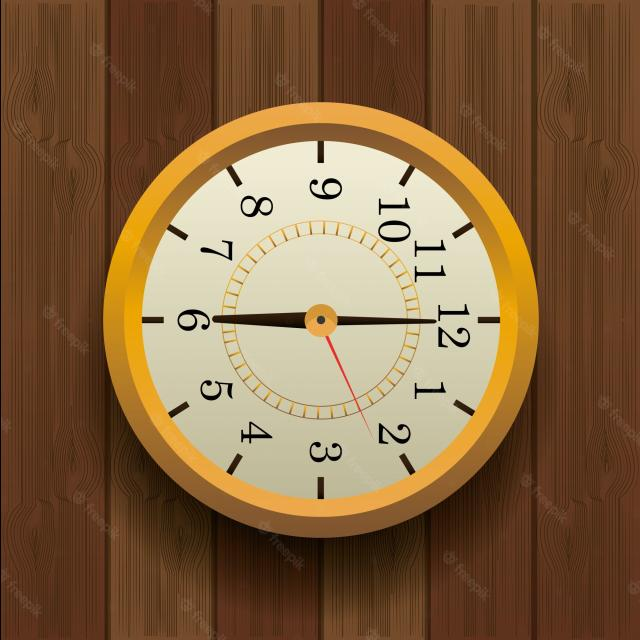clock: (69, 75, 566, 568)
